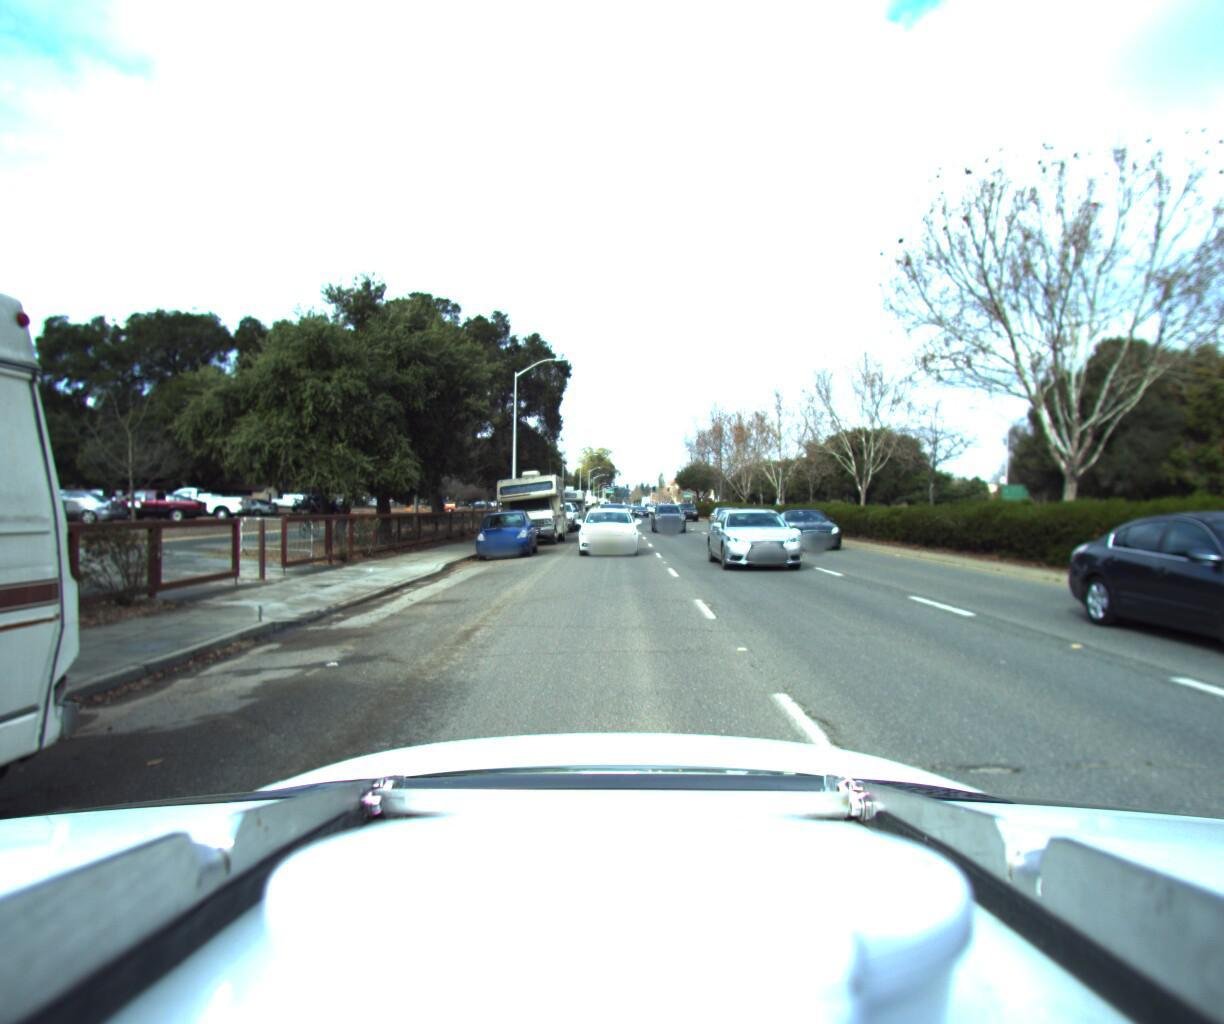bicycle: (290, 492, 327, 538)
car: (1103, 503, 1224, 724), (706, 498, 827, 574), (772, 497, 857, 547), (468, 501, 540, 556), (578, 495, 640, 552), (537, 493, 582, 528), (647, 497, 690, 529), (675, 494, 703, 514)
other_vehicle: (488, 461, 570, 540), (545, 477, 586, 520), (568, 486, 593, 515)
